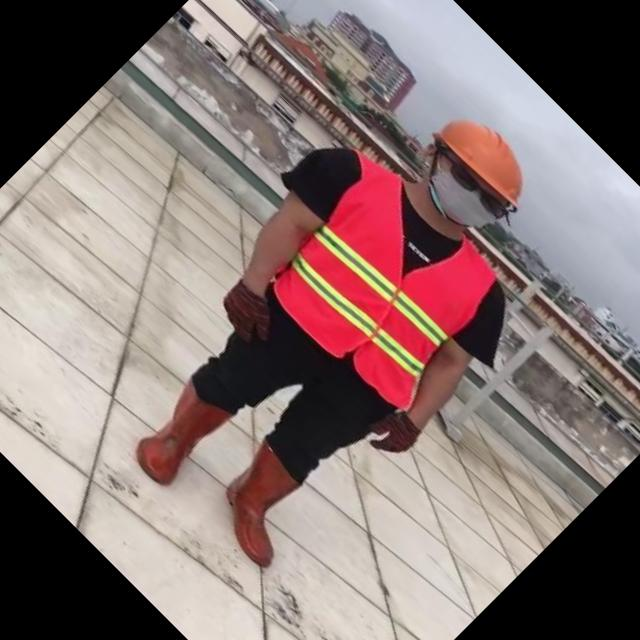hard_hat: (426, 91, 554, 220)
safety_vest: (252, 154, 512, 414)
vehicle: (60, 36, 628, 604)
work_boots: (197, 436, 333, 572), (117, 372, 239, 494)
